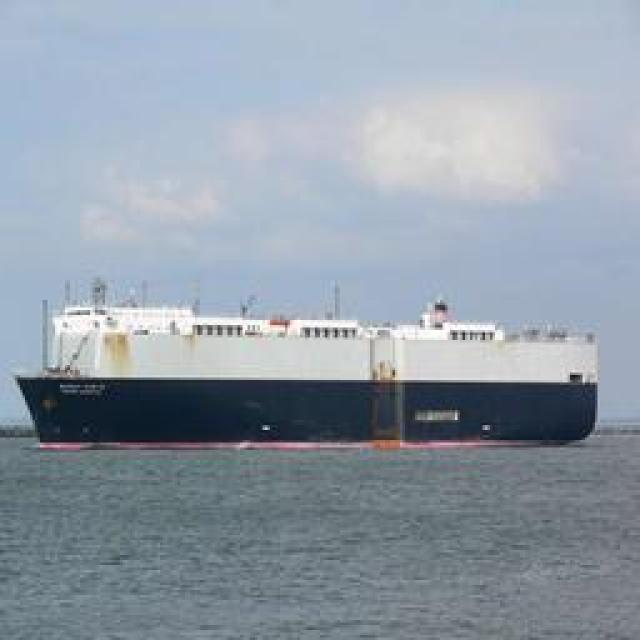ship2: (13, 276, 599, 451)
